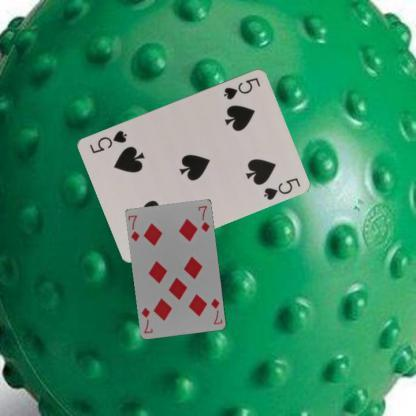5s: (221, 74, 262, 100)
7d: (209, 296, 224, 326), (126, 212, 141, 242)
